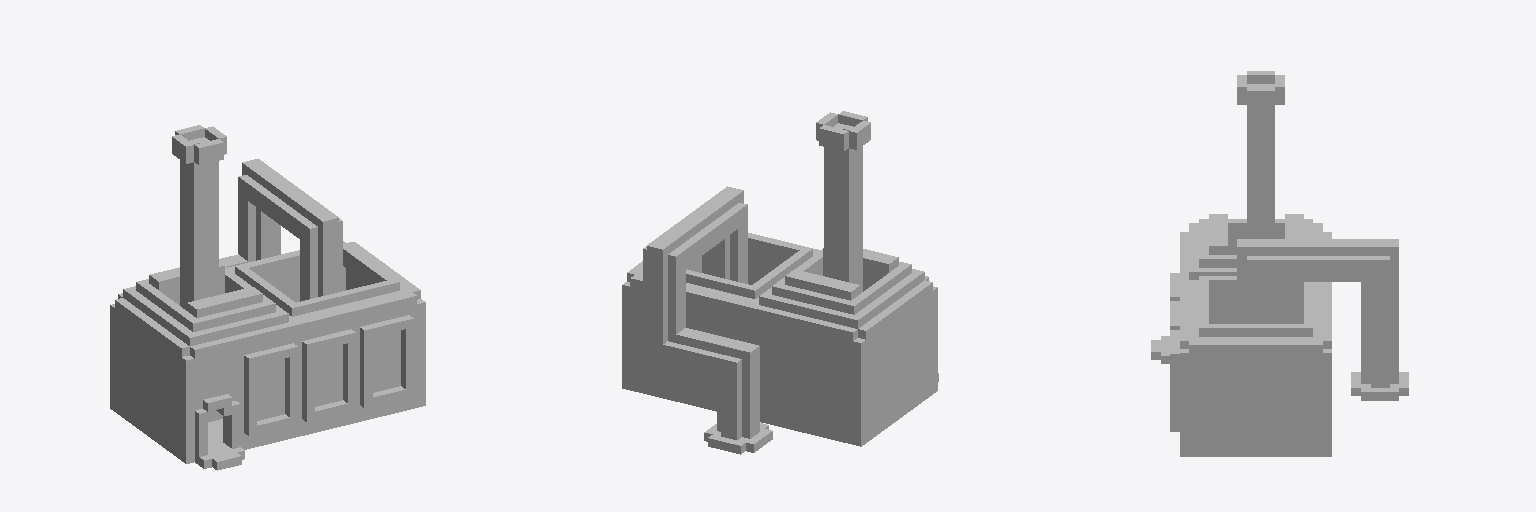
File: House 3.obj
The picture shows the model from 3 angles: view 1: azimuth 30°, elevation 25°; view 2: azimuth 150°, elevation 25°; view 3: azimuth 270°, elevation 25°; orthographic projection.
Parts seen in each view (by area): view 1: object 1; view 2: object 1; view 3: object 1.
Boxes of the visible parts, box(x1,y1,x2,y2) form: object 1: box(110, 125, 425, 470); object 1: box(622, 111, 938, 454); object 1: box(1151, 71, 1408, 456).
Size of the model in its own units: 2.9 by 3.3 by 2.7.